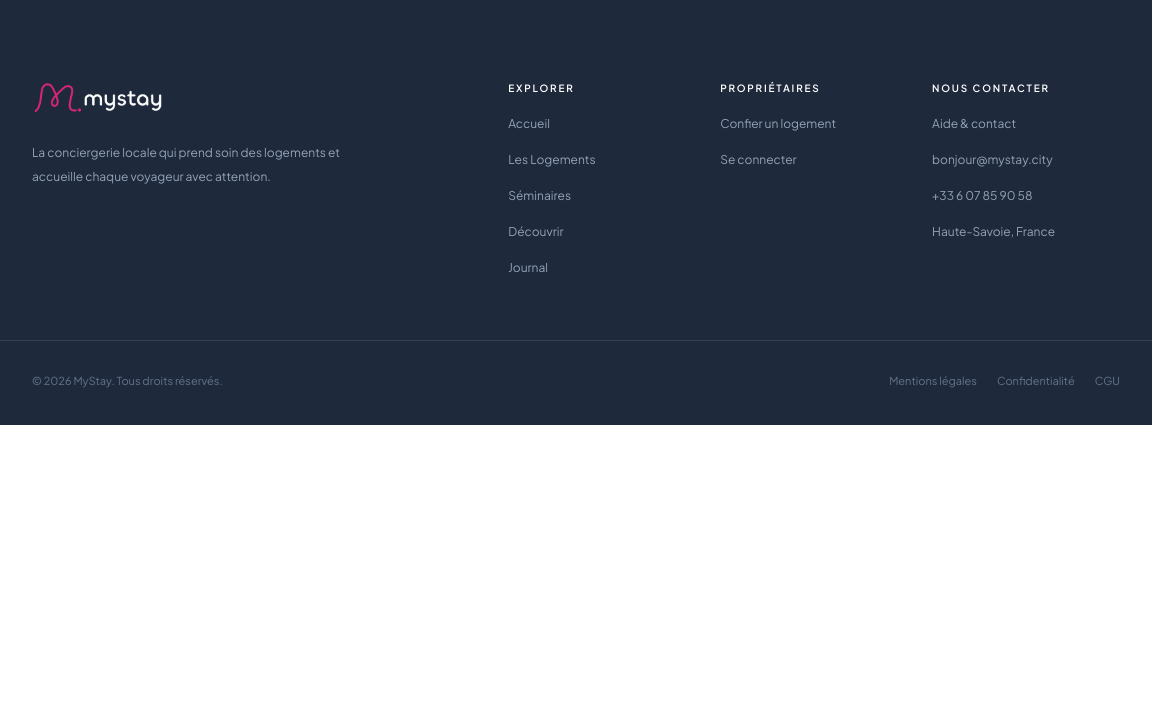
Test: 053 help contact modal › AC-01-04: shows an error message when the request fails
Click the button "Aide & contact" at coordinates (974, 124), box [932,108,1016,140]
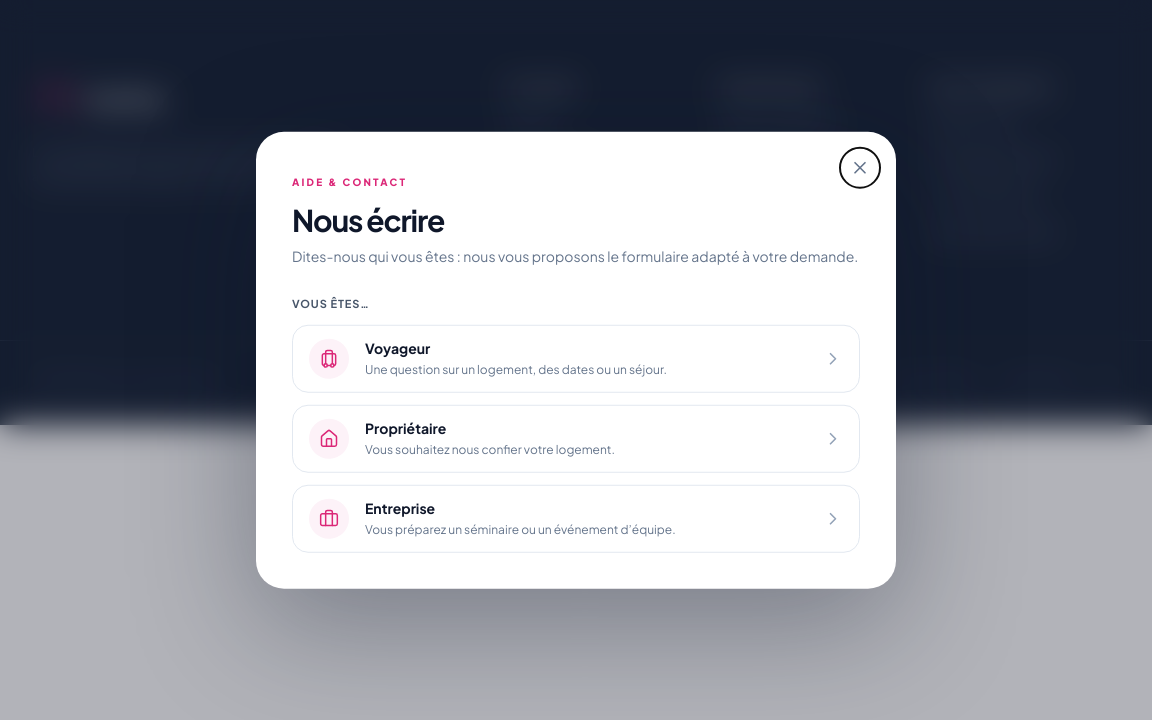
Click the button "Voyageur" at coordinates (576, 358), box [292,324,860,392]
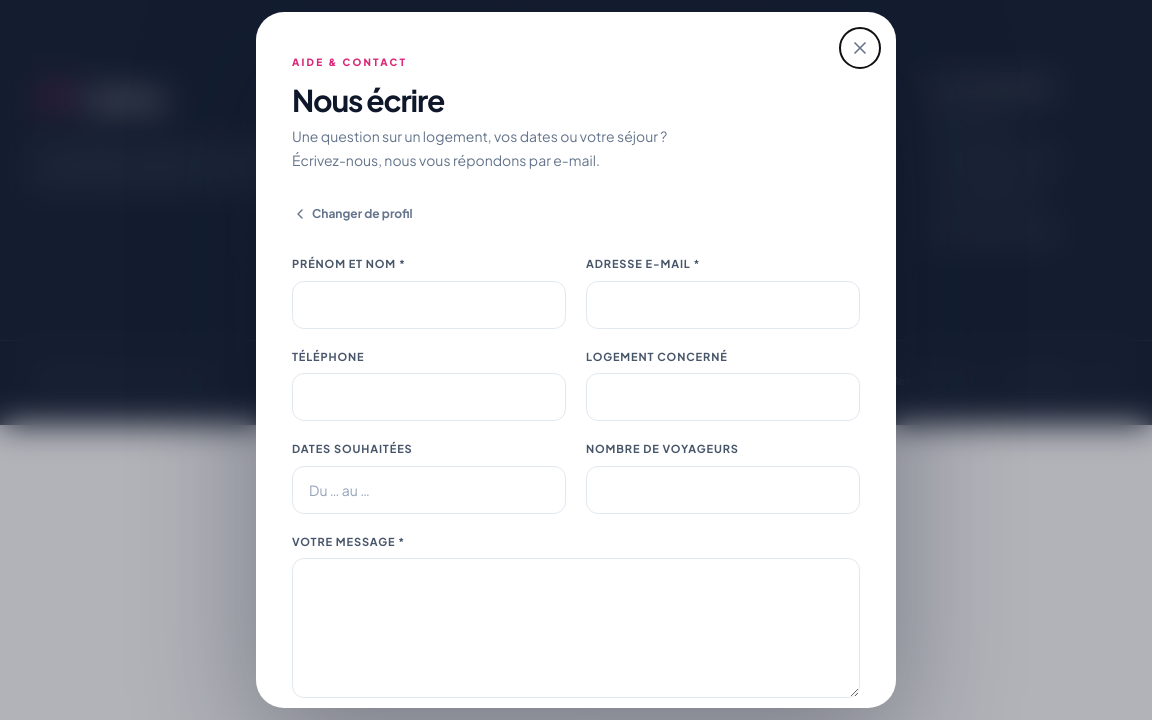
Type "Paul Durand" into the field labelled "Prénom et nom *" at coordinates (429, 304), box [292,280,566,328]
Type "paul@exemple.test" into the field labelled "Adresse e-mail *" at coordinates (723, 304), box [586,280,860,328]
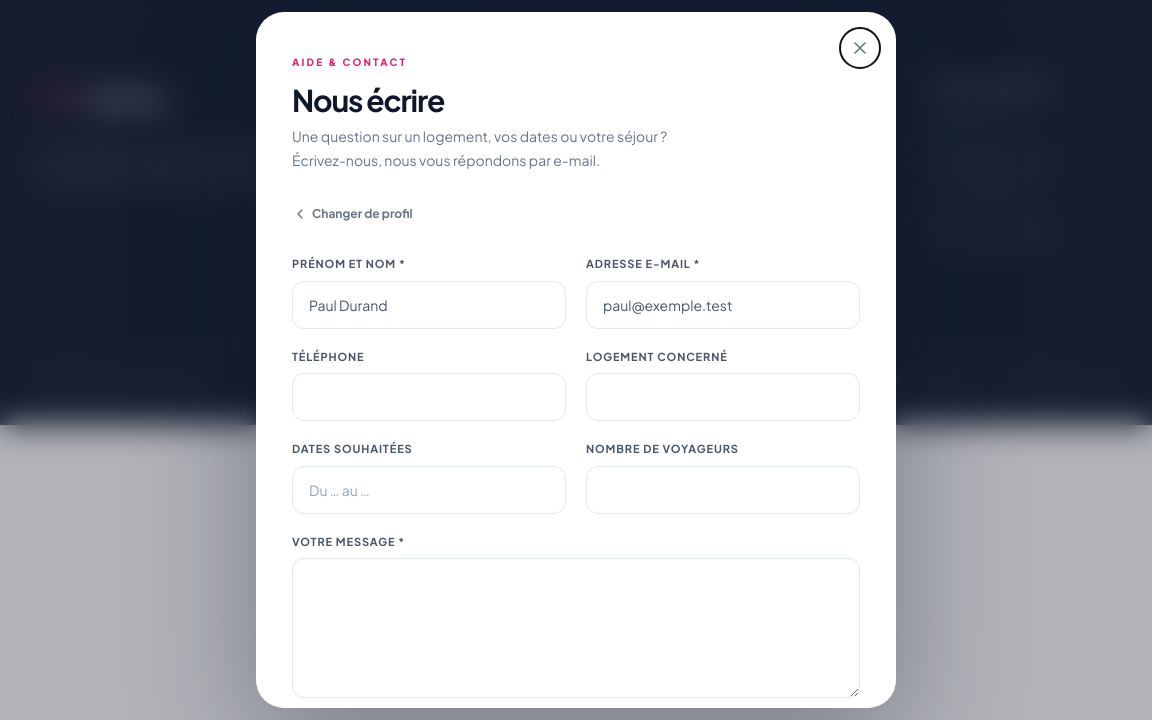
Type "Bonjour, je cherche le lien de mon guide de séjour." into the text box labelled "Votre message *" at coordinates (576, 628), box [292,558,860,698]
(page scrolled)
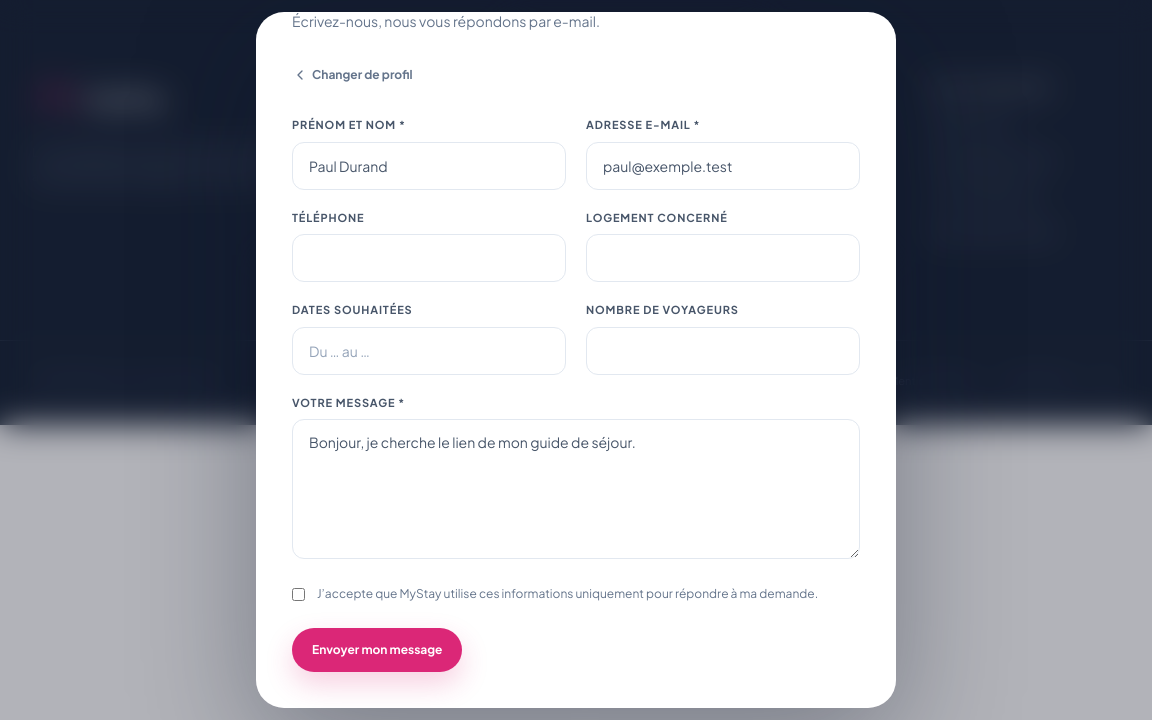
Click the checkbox at coordinates (298, 594), box [292,588,305,600]
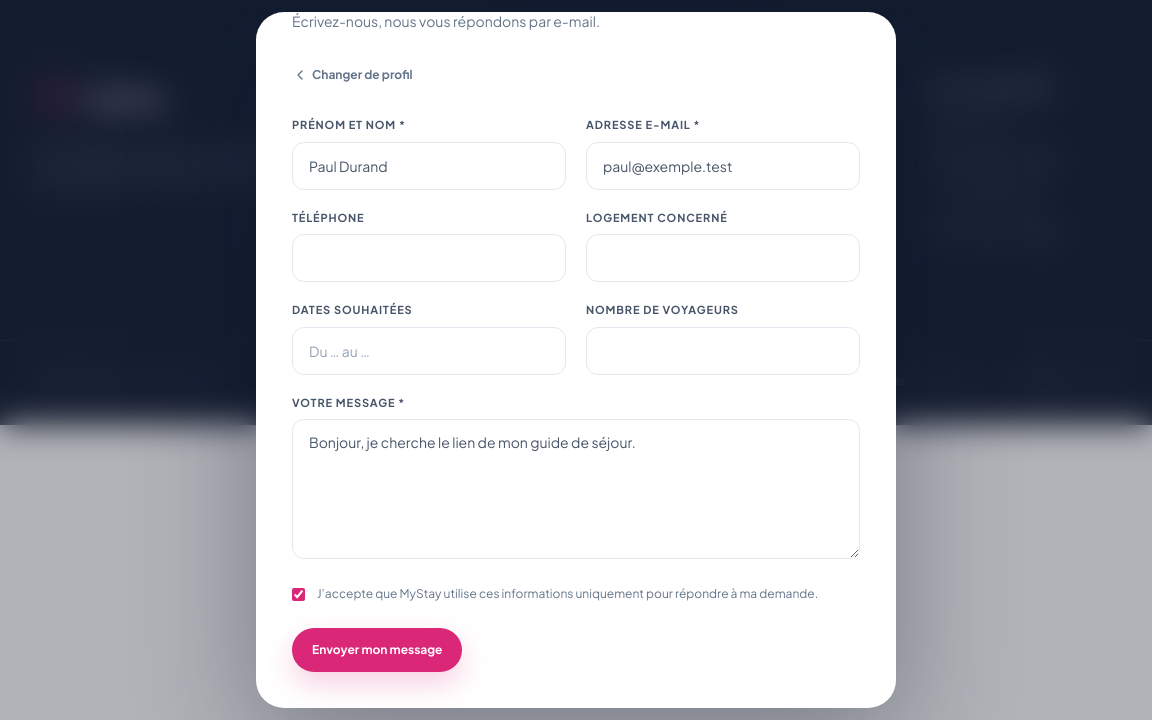
Submit the form named "Envoyer mon message", box [292,117,860,672]
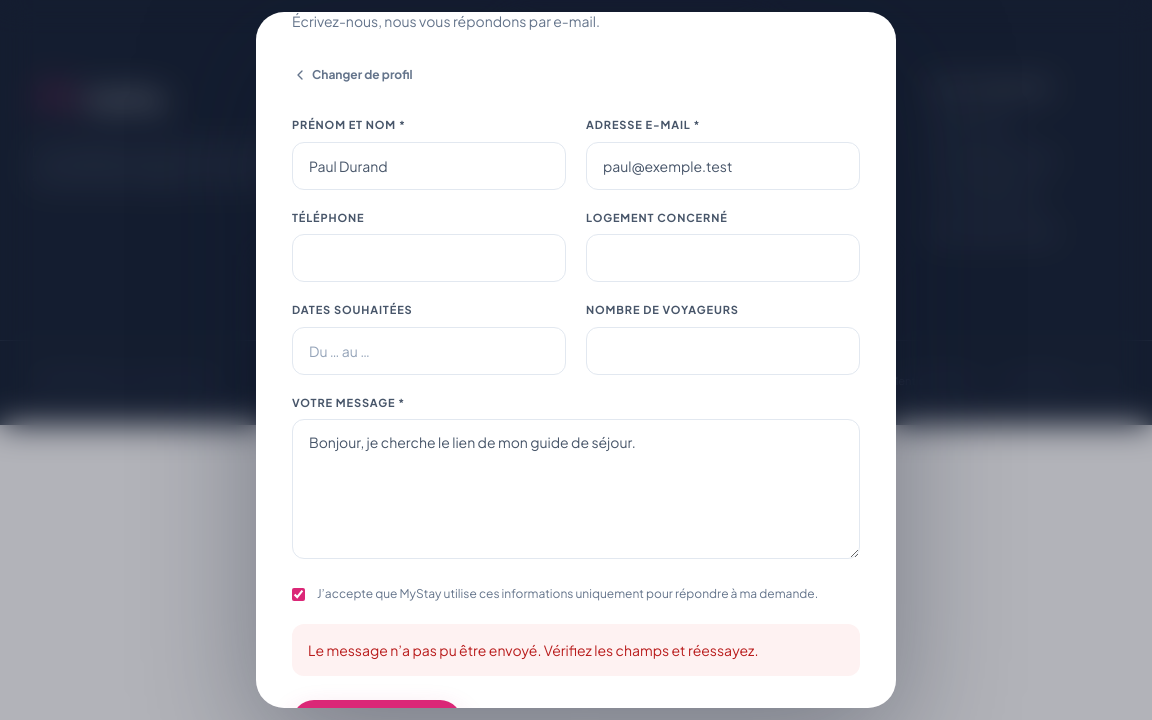
Now the message shows "Vérifiez les champs et réessayez", box [308,640,758,658]
